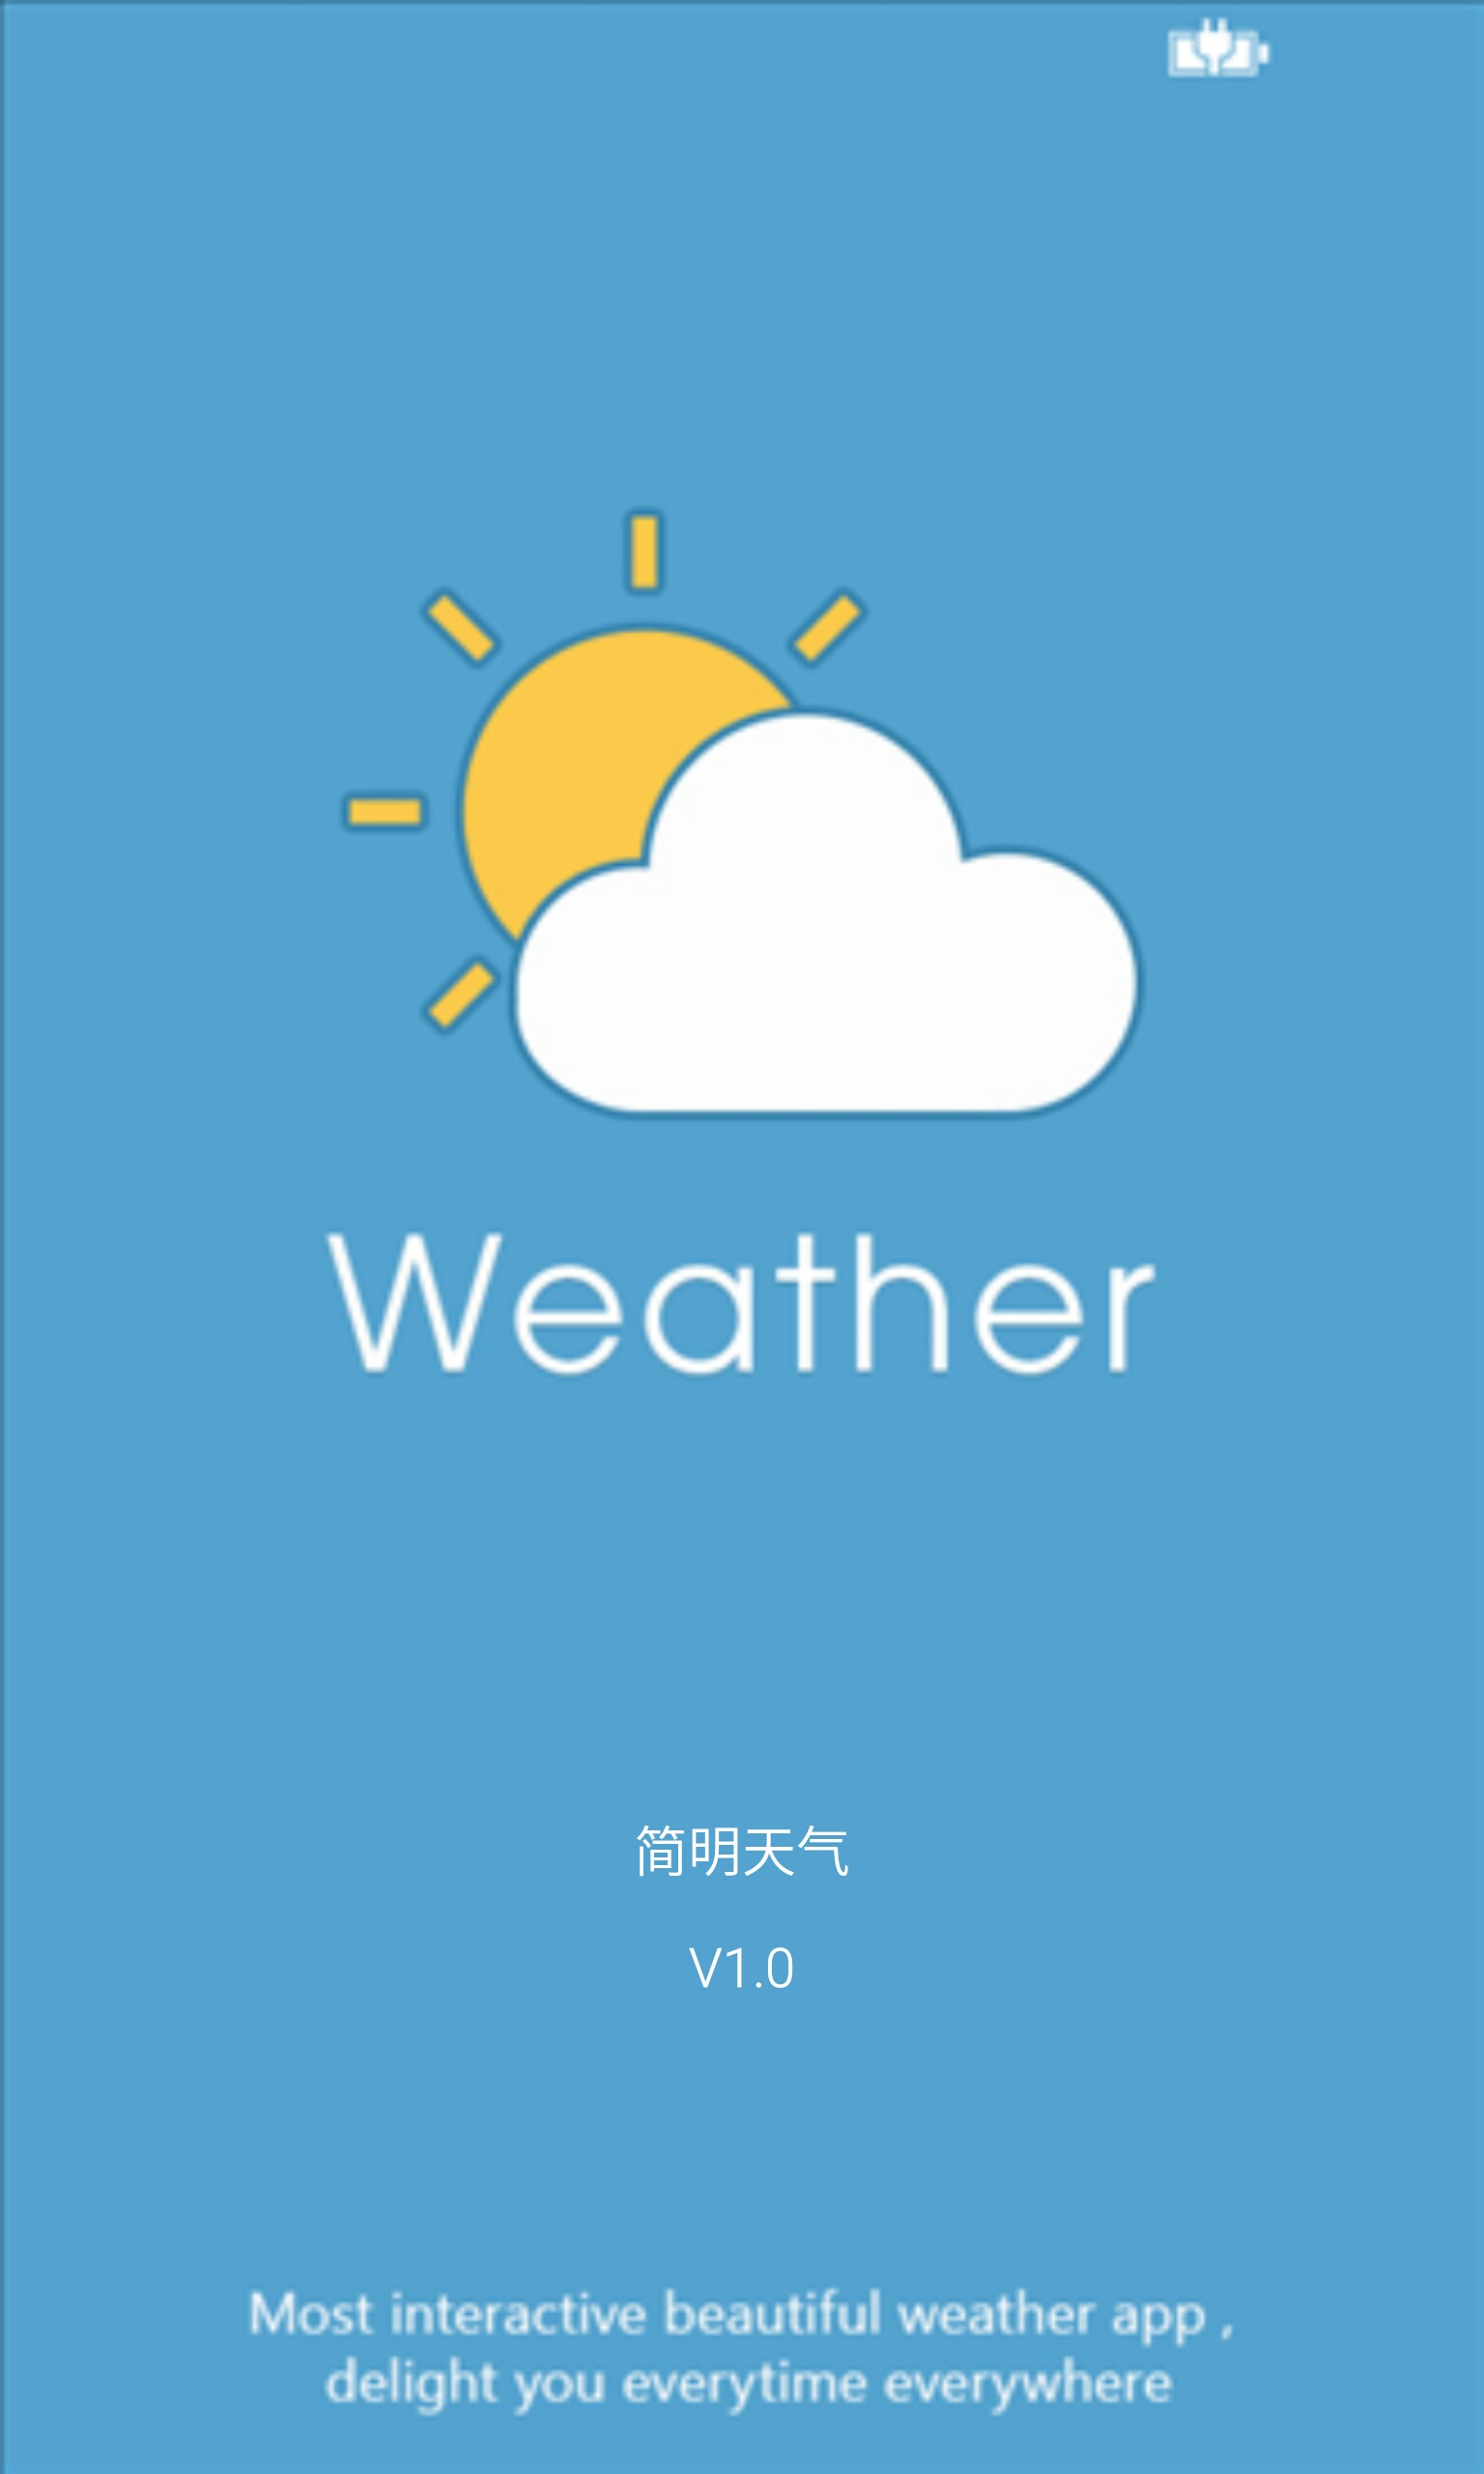imgview: (180, 408, 1235, 1165)
textview: (242, 1196, 1184, 1435)
